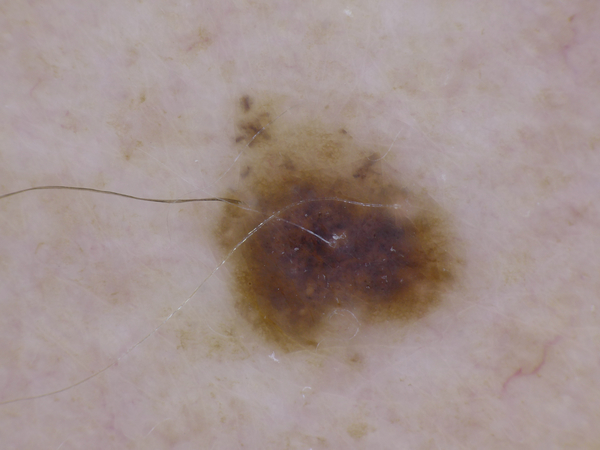Detected Lesion: (208, 83, 475, 380)
